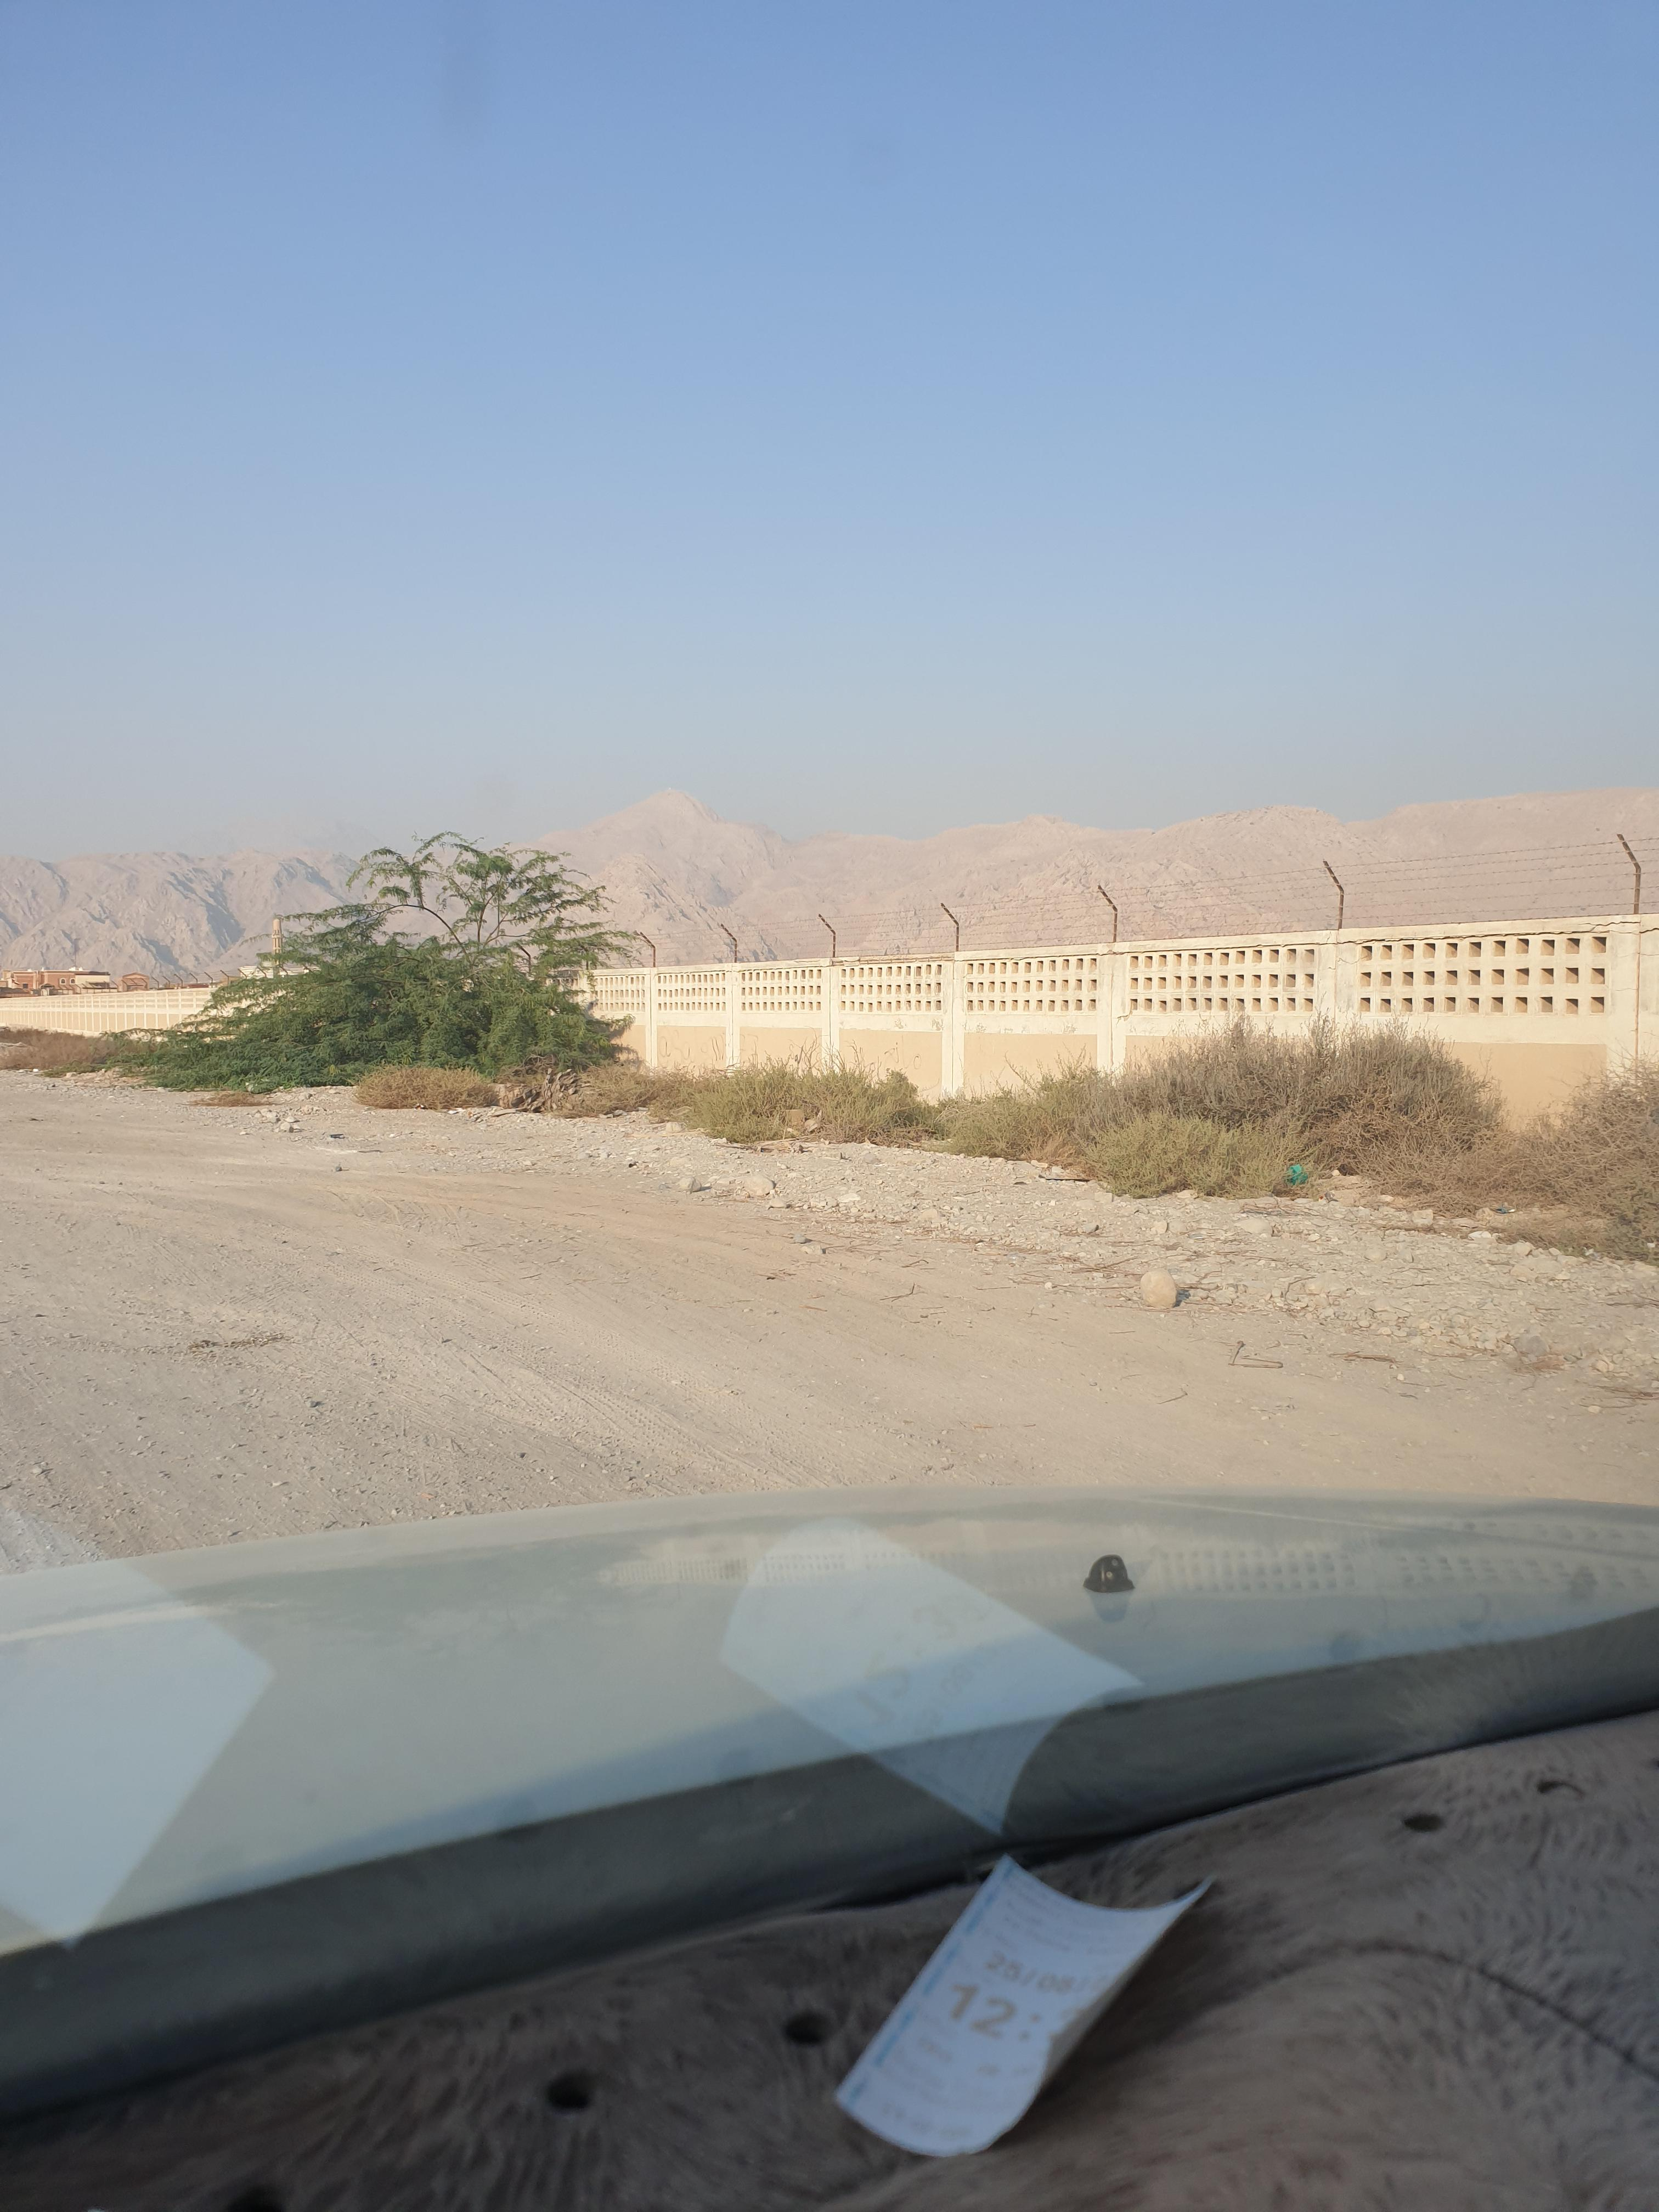fallen_trees: (514, 1066, 601, 1122)
